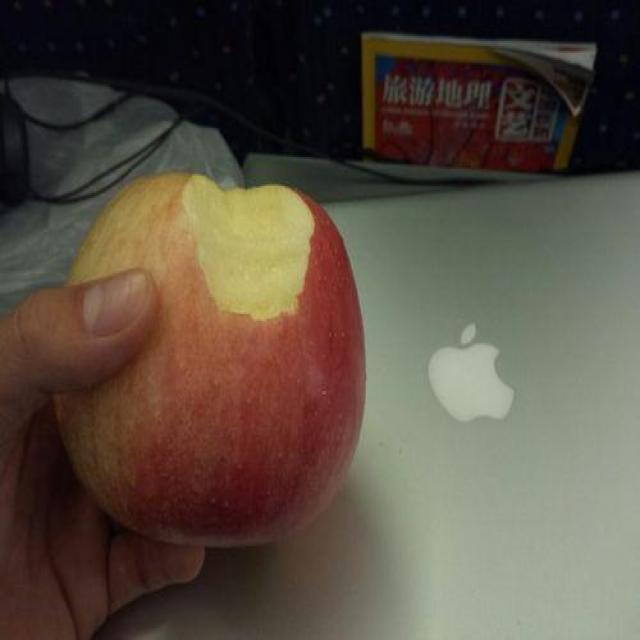Rotten: (61, 176, 370, 539)
